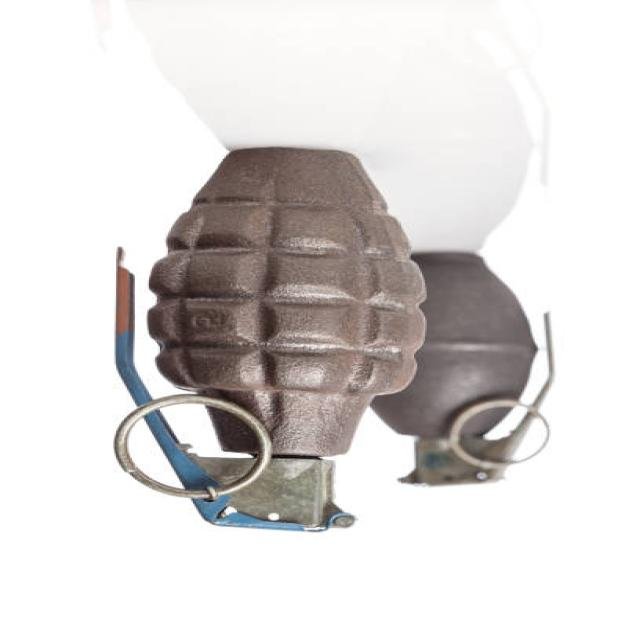grenade: (98, 145, 442, 538), (375, 241, 574, 493)
